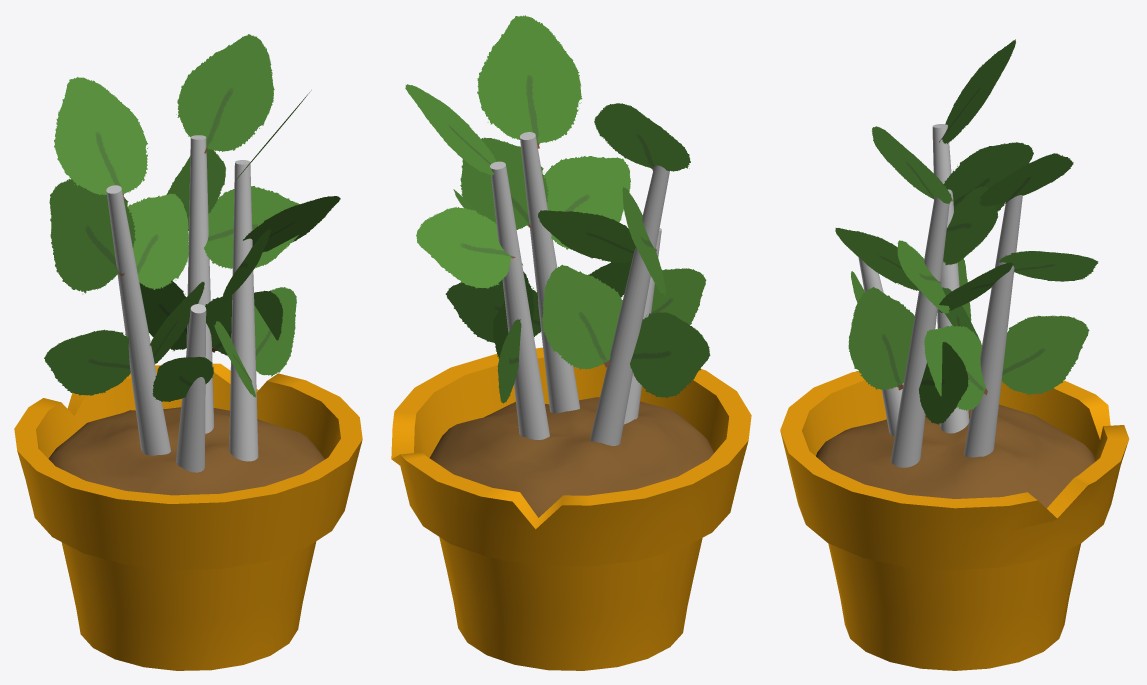
File: planta.fbx
The picture shows the model from 3 angles, left to right: view 1: azimuth 30°, elevation 25°; view 2: azimuth 150°, elevation 25°; view 3: azimuth 270°, elevation 25°; orthographic projection. The views are drawn at different scales.
Parts seen in each view (by area): view 1: planta; view 2: planta; view 3: planta.
Boxes of the visible parts, <box> form: planta: <box>14,34,362,670</box>; planta: <box>391,15,751,670</box>; planta: <box>780,39,1129,670</box>.
Size of the model in its own units: 9.07 by 15.17 by 8.92.
